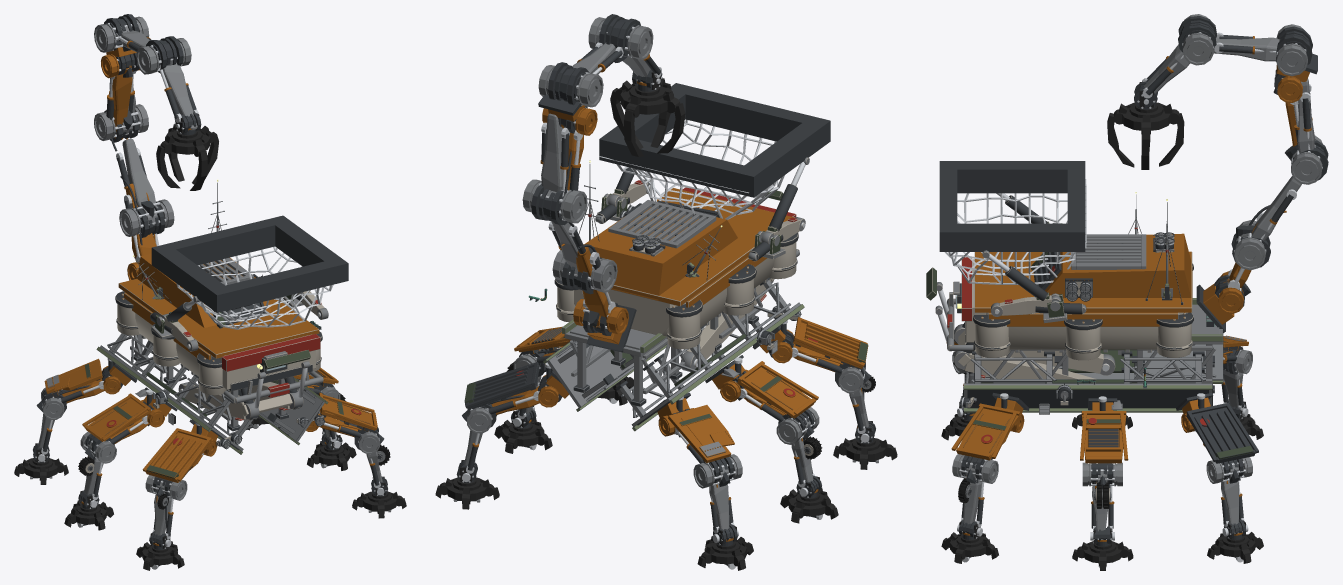
The model's file is desert_crawler.fbx.
3 renders of one model, left to right at view 1: azimuth 30°, elevation 25°; view 2: azimuth 150°, elevation 25°; view 3: azimuth 270°, elevation 25°, orthographic. The views are drawn at different scales.
Visible parts, largest first — view 1: Cube.002, Mesh_Crawler_Chassis, Mesh_Crawler_Prow, Mesh_Crawler_Gantry.002, Mesh_Leg_N1_Lower.003, Mesh_Leg_N1_Lower, Mesh_Leg_P2_Foot, Grid, Mesh_Leg_N1_Shroud.002, Mesh_Leg_N1_Upper.002, Mesh_Leg_N1_Lower.004, Cube (+23 smaller); view 2: Cube.002, Mesh_Crawler_Chassis, Cube, Mesh_Crawler_Gantry.002, Mesh_Crawler_Gantry, Mesh_Leg_N1_Lower.001, Mesh_Leg_P2_Foot, Grid, Mesh_Leg_N1_Upper, Mesh_Leg_N1_Lower.004, Mesh_GantryPlate_0, Mesh_Crawler_Gantry.003 (+24 smaller); view 3: Mesh_Crawler_Chassis, Cube.002, Mesh_Crawler_Gantry.003, Cube, Grid, Mesh_Leg_P2_Foot, Mesh_Leg_N1_Lower.004, Mesh_Leg_P3_Shroud, Mesh_Leg_N1_Lower, Mesh_Crawler_Gantry, Mesh_Leg_N1_Lower.003, Mesh_GantryPlate_0 (+24 smaller).
Boxes of the visible parts, x1=… form: Cube.002: x1=151, y1=215, x2=348, y2=312; Mesh_Crawler_Chassis: x1=115, y1=279, x2=322, y2=395; Mesh_Crawler_Prow: x1=218, y1=334, x2=323, y2=403; Mesh_Crawler_Gantry.002: x1=96, y1=333, x2=256, y2=454; Mesh_Leg_N1_Lower.003: x1=116, y1=138, x2=174, y2=237; Mesh_Leg_N1_Lower: x1=136, y1=36, x2=198, y2=130; Mesh_Leg_P2_Foot: x1=156, y1=112, x2=218, y2=190; Grid: x1=176, y1=246, x2=333, y2=329; Mesh_Leg_N1_Shroud.002: x1=142, y1=428, x2=211, y2=482; Mesh_Leg_N1_Upper.002: x1=101, y1=41, x2=139, y2=151; Mesh_Leg_N1_Lower.004: x1=94, y1=14, x2=151, y2=52; Cube: x1=137, y1=253, x2=270, y2=327; Cube.002: x1=599, y1=83, x2=830, y2=197; Mesh_Crawler_Chassis: x1=554, y1=188, x2=798, y2=349; Cube: x1=584, y1=207, x2=737, y2=300; Mesh_Crawler_Gantry.002: x1=615, y1=277, x2=804, y2=431; Mesh_Crawler_Gantry: x1=562, y1=291, x2=762, y2=406; Mesh_Leg_N1_Lower.001: x1=522, y1=113, x2=587, y2=225; Mesh_Leg_P2_Foot: x1=610, y1=70, x2=685, y2=156; Grid: x1=599, y1=119, x2=784, y2=219; Mesh_Leg_N1_Upper: x1=561, y1=243, x2=636, y2=352; Mesh_Leg_N1_Lower.004: x1=538, y1=42, x2=623, y2=107; Mesh_GantryPlate_0: x1=608, y1=200, x2=716, y2=248; Mesh_Crawler_Gantry.003: x1=543, y1=341, x2=666, y2=411; Mesh_Crawler_Chassis: x1=973, y1=251, x2=1193, y2=360; Cube.002: x1=939, y1=161, x2=1085, y2=251; Mesh_Crawler_Gantry.003: x1=963, y1=351, x2=1212, y2=412; Cube: x1=1045, y1=233, x2=1192, y2=301; Grid: x1=944, y1=179, x2=1086, y2=284; Mesh_Leg_P2_Foot: x1=1107, y1=81, x2=1184, y2=169; Mesh_Leg_N1_Lower.004: x1=1214, y1=24, x2=1312, y2=76; Mesh_Leg_P3_Shroud: x1=1186, y1=402, x2=1258, y2=463; Mesh_Leg_N1_Lower: x1=1142, y1=14, x2=1216, y2=98; Mesh_Crawler_Gantry: x1=990, y1=298, x2=1222, y2=393; Mesh_Leg_N1_Lower.003: x1=1231, y1=176, x2=1301, y2=270; Mesh_GantryPlate_0: x1=1071, y1=234, x2=1146, y2=269.
Size of the model in its own units: 2048 by 2876 by 2207.
